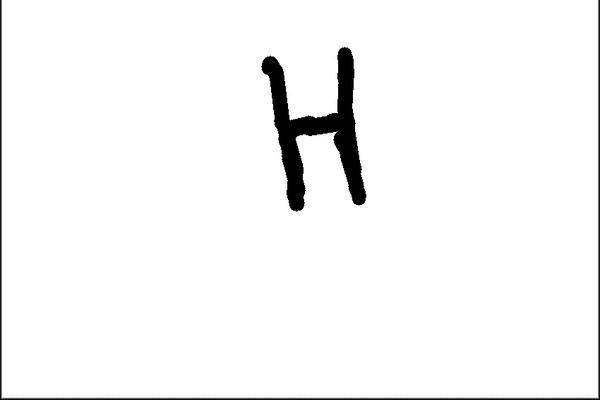H: (258, 39, 381, 216)
